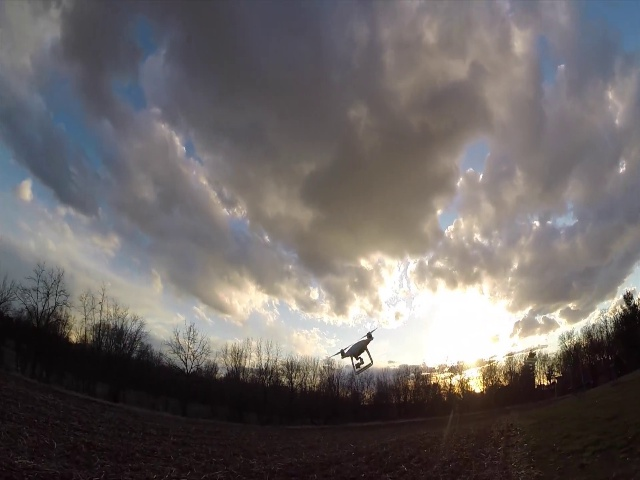drone: (328, 327, 377, 377)
